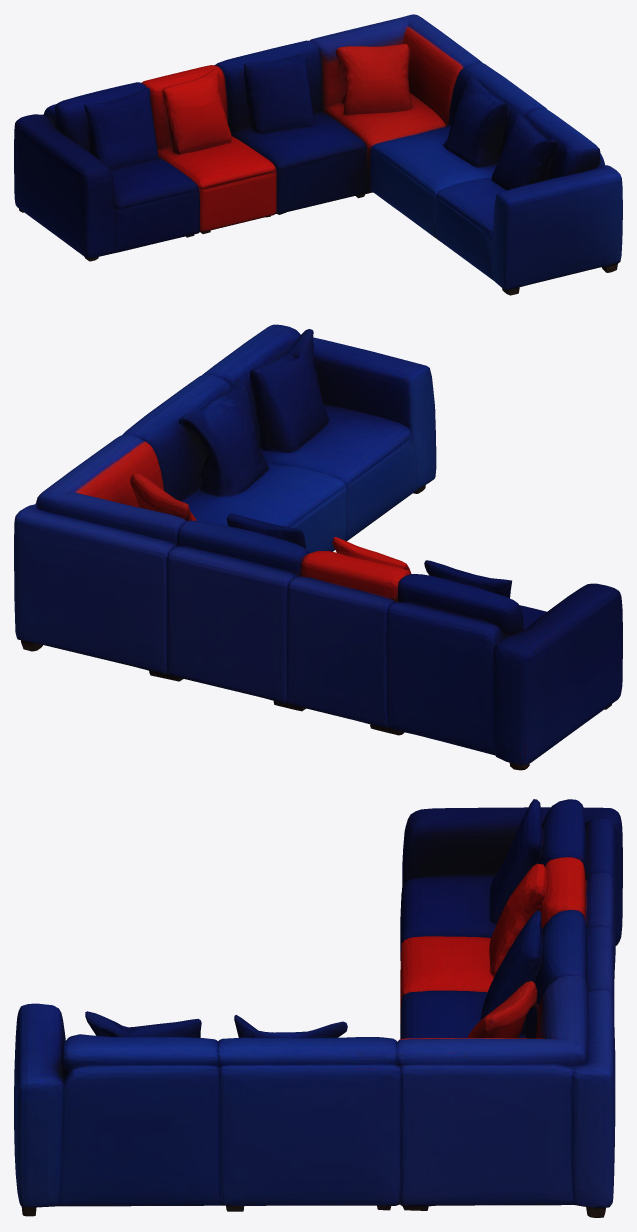
3 renders of one model, top to bottom at view 1: azimuth 30°, elevation 25°; view 2: azimuth 150°, elevation 25°; view 3: azimuth 270°, elevation 25°, orthographic. The views are drawn at different scales.
Visible parts, largest first — view 1: world; view 2: world; view 3: world.
Boxes of the visible parts, <box> form: world: <box>14,14,622,295</box>; world: <box>14,324,622,770</box>; world: <box>14,799,622,1217</box>.
Size of the model in its own units: 2.89 by 0.85 by 2.65.
Materials: 1 (1 with a texture image).
